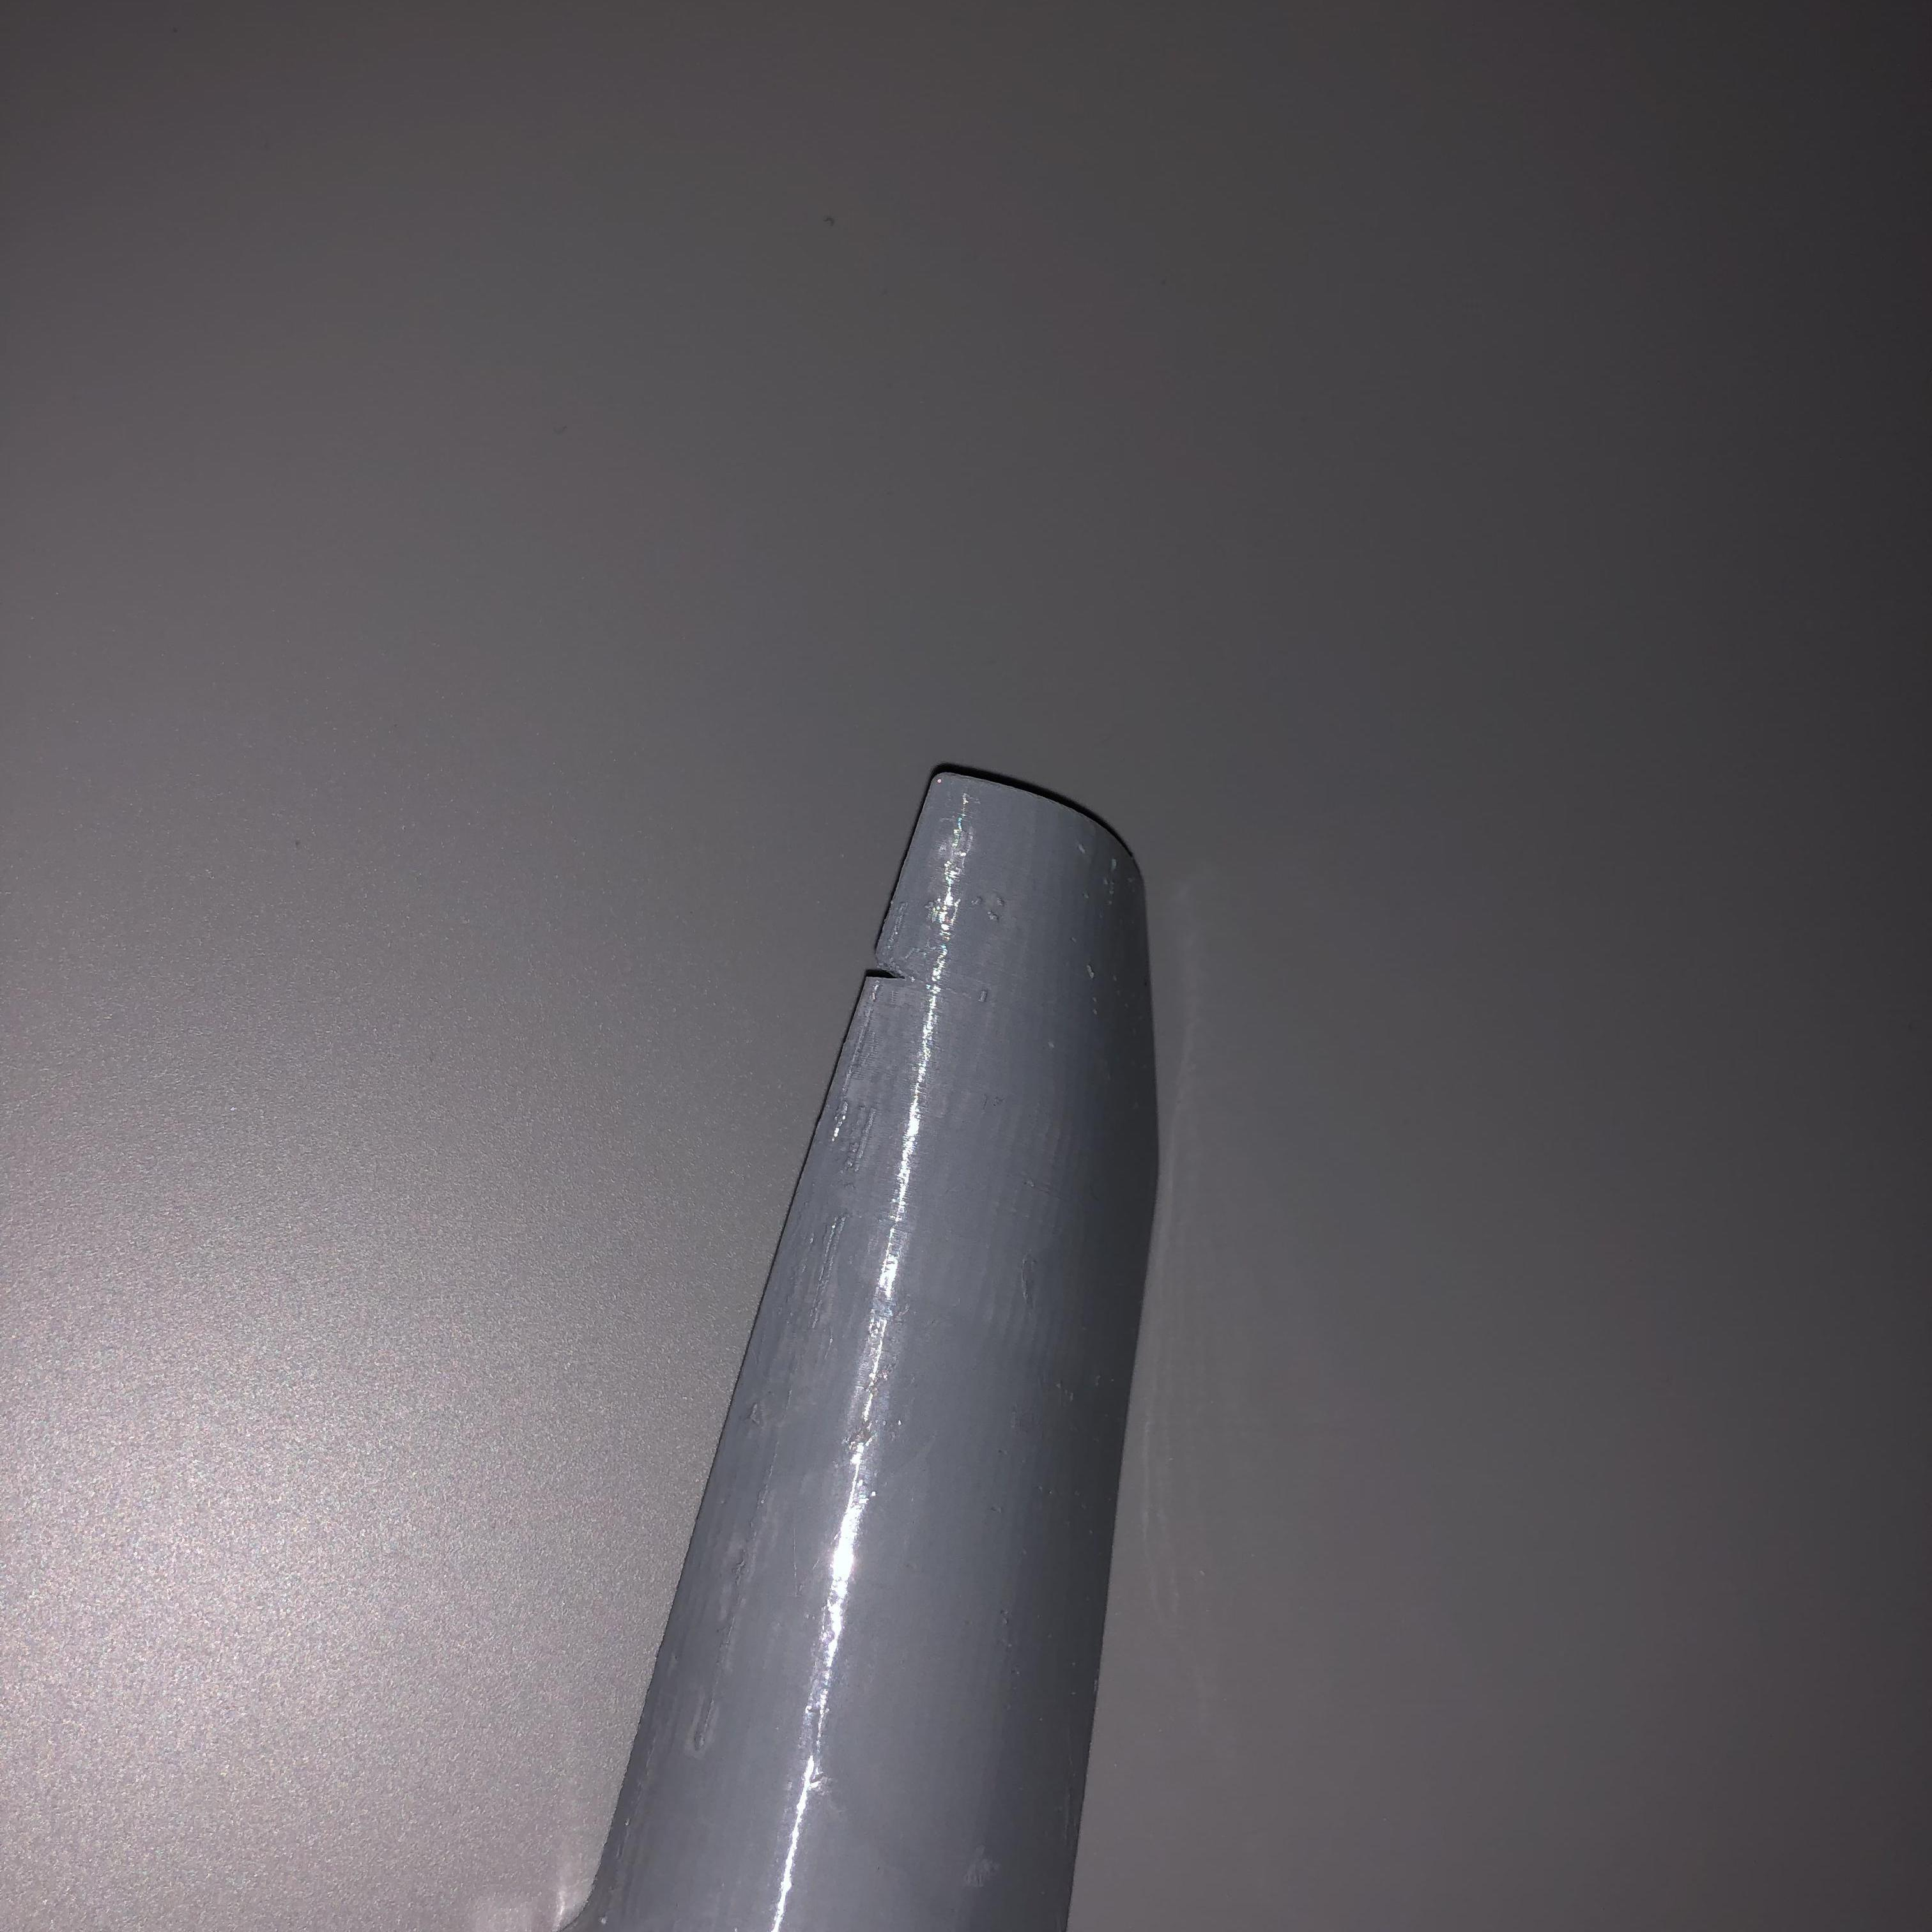groove: (855, 952, 934, 989)
